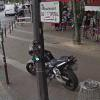Motorcycle: (23, 42, 78, 92)
